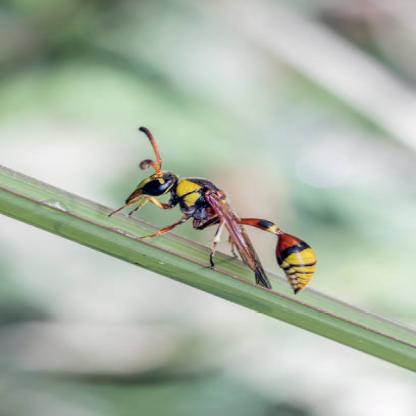sawfly: (101, 122, 326, 302)
